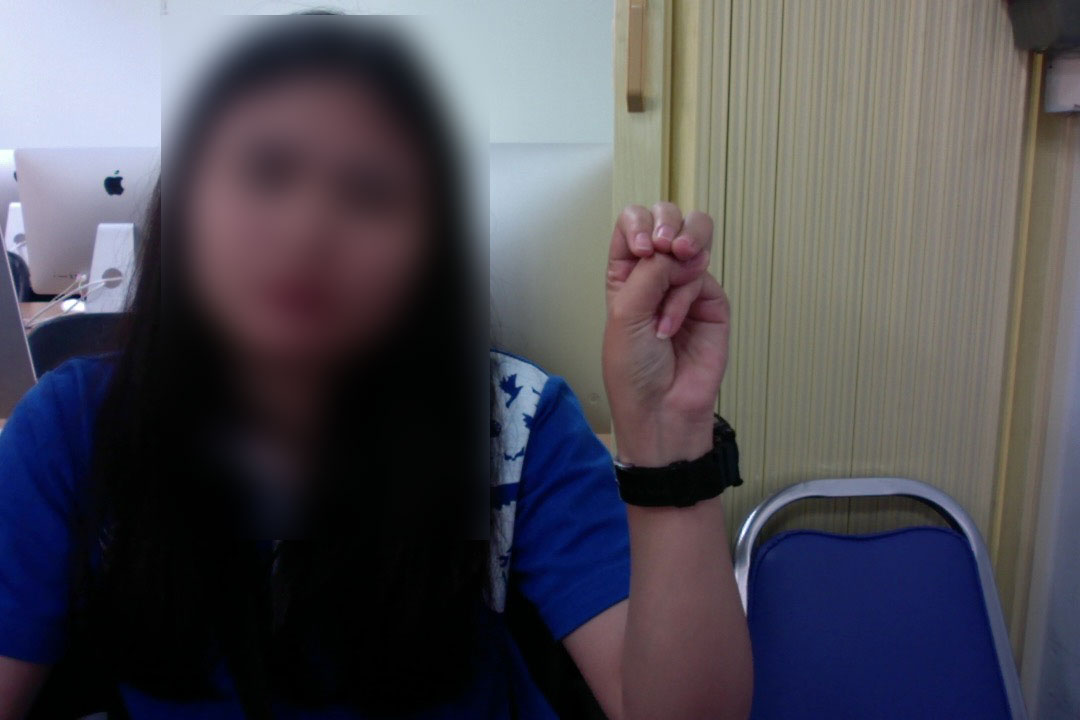mor: (588, 192, 739, 442)
